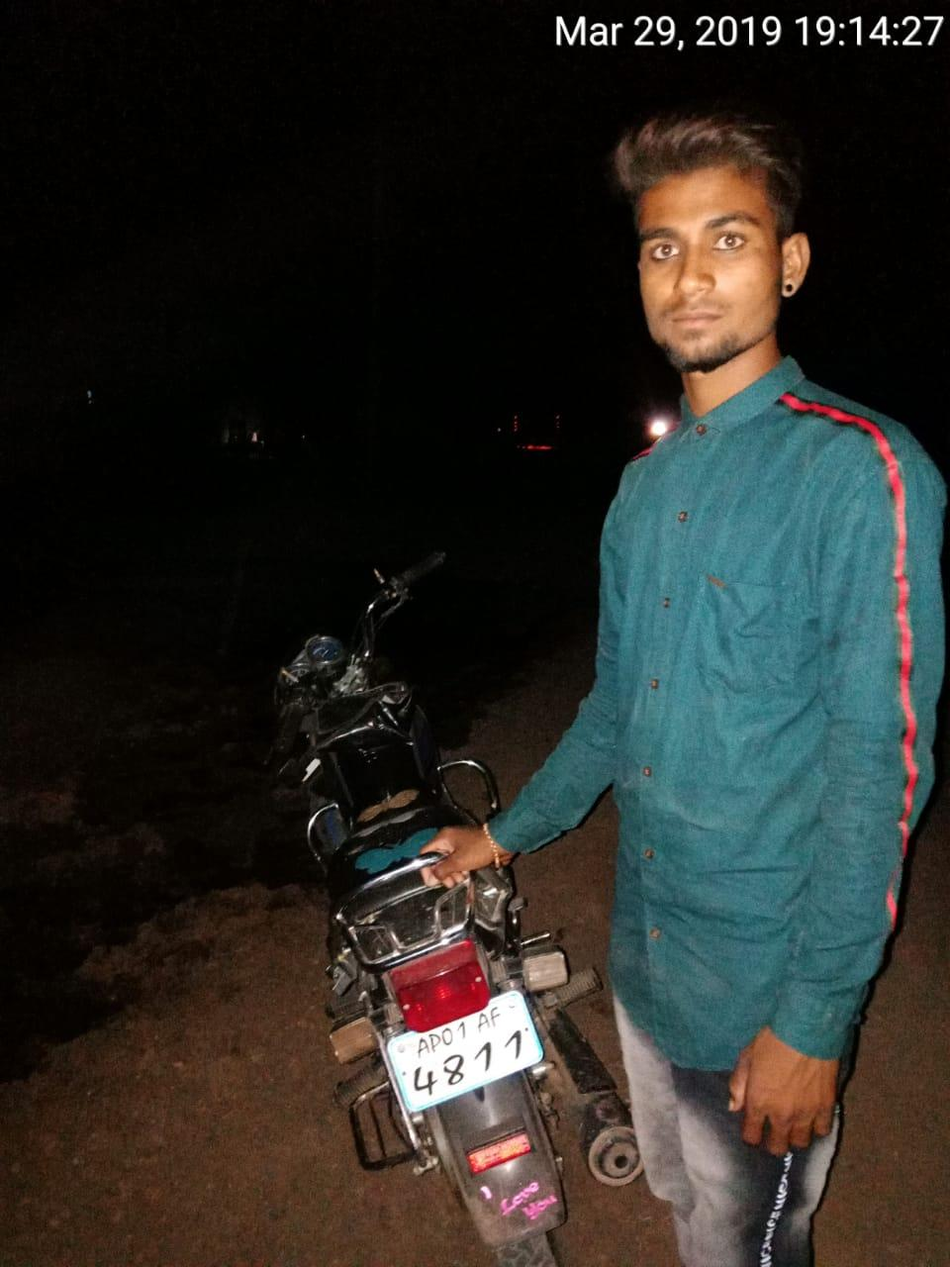plate: (367, 963, 558, 1123)
